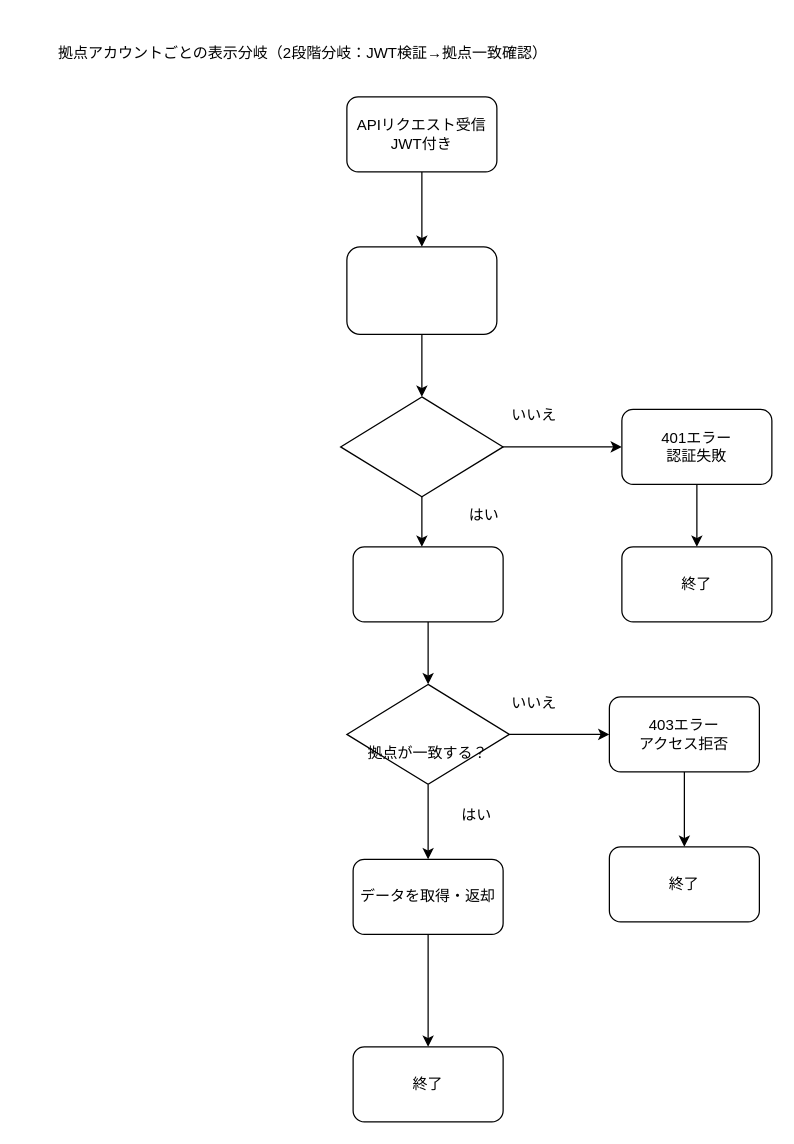
Image size: 794x1144. Some labels were removed from this diagram. The shapes that lost their labels are listed below. From the top down, each one's centre as x and y in pixels, then its label:
At (421,290): "JWTを検証".
At (421,446): "JWTは有効？".
At (427,584): "location_idを取得 JWTから抽出".
